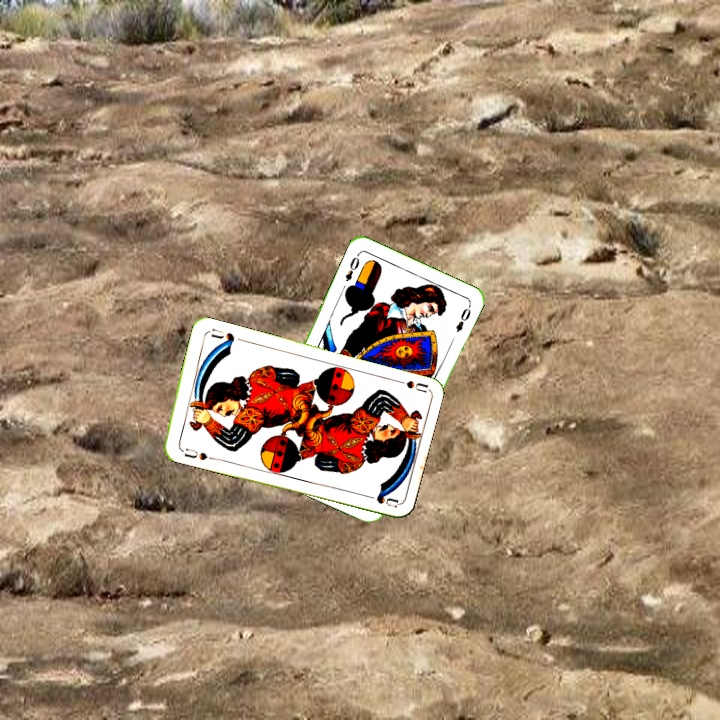EO: (341, 250, 362, 284)
SU: (388, 375, 429, 395), (180, 444, 215, 463)
